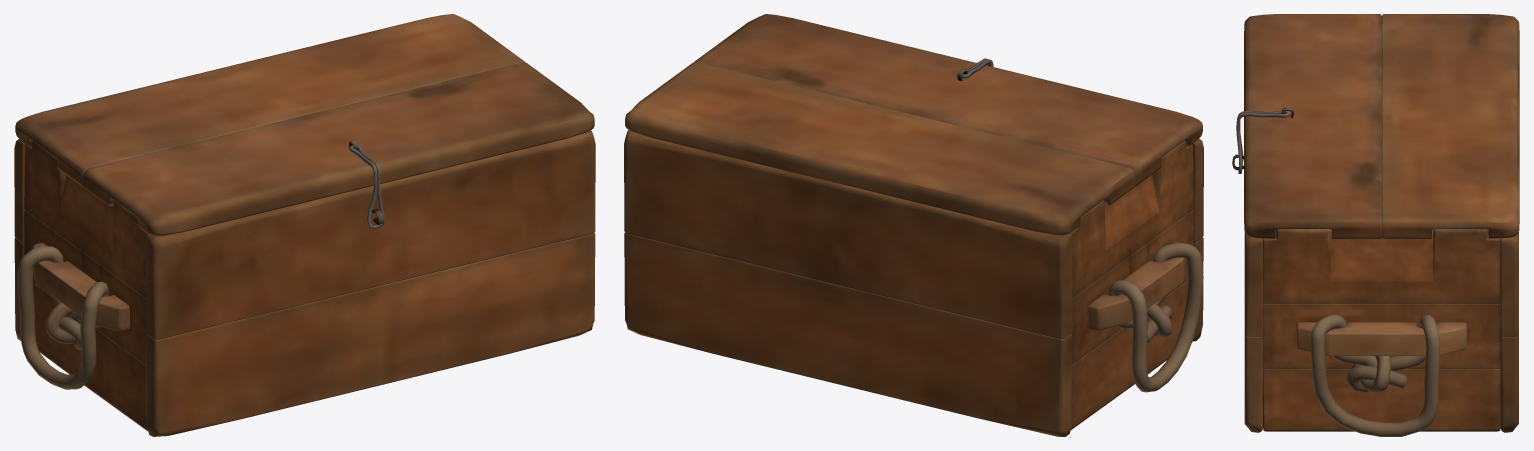
File: wooden_crate_01.gltf
3 views of the same model, side by side, from view 1: azimuth 30°, elevation 25°; view 2: azimuth 150°, elevation 25°; view 3: azimuth 270°, elevation 25° (orthographic). The views are drawn at different scales.
Parts seen in each view (by area): view 1: wooden_crate_01, wooden_crate_01_lid, wooden_crate_01_latch; view 2: wooden_crate_01, wooden_crate_01_lid; view 3: wooden_crate_01_lid, wooden_crate_01, wooden_crate_01_latch.
Boxes of the visible parts, <box> form: wooden_crate_01: <box>14,130,595,436</box>; wooden_crate_01_lid: <box>15,14,594,236</box>; wooden_crate_01_latch: <box>349,145,384,228</box>; wooden_crate_01: <box>624,130,1203,436</box>; wooden_crate_01_lid: <box>625,14,1202,235</box>; wooden_crate_01_lid: <box>1244,14,1519,238</box>; wooden_crate_01: <box>1232,154,1518,436</box>; wooden_crate_01_latch: <box>1236,111,1289,173</box>.
Size of the model in its own units: 0.8253 by 0.3496 by 0.409.
Materials: 1 (1 with a texture image).
